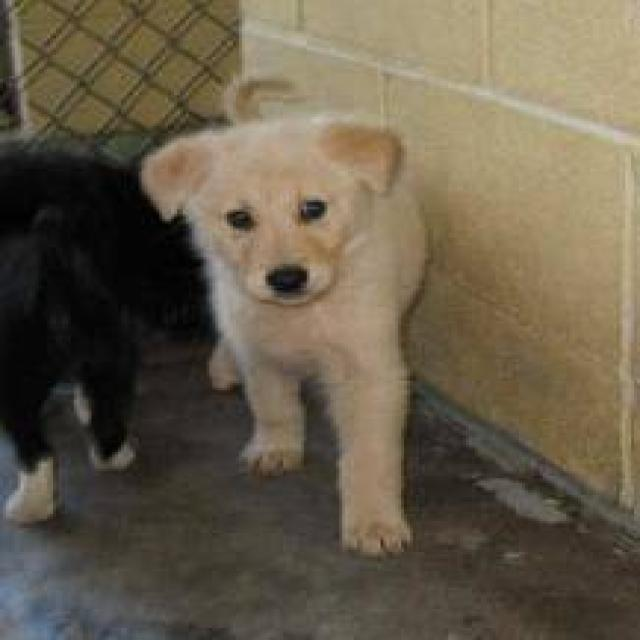dog: (136, 74, 430, 556)
